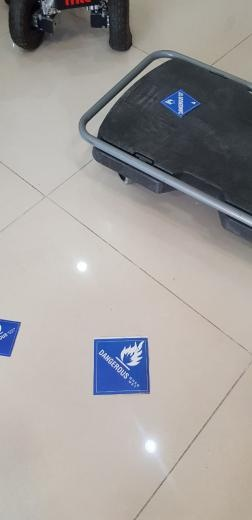Dangerous when wet: (93, 337, 149, 395), (160, 89, 200, 118), (1, 319, 20, 357)
